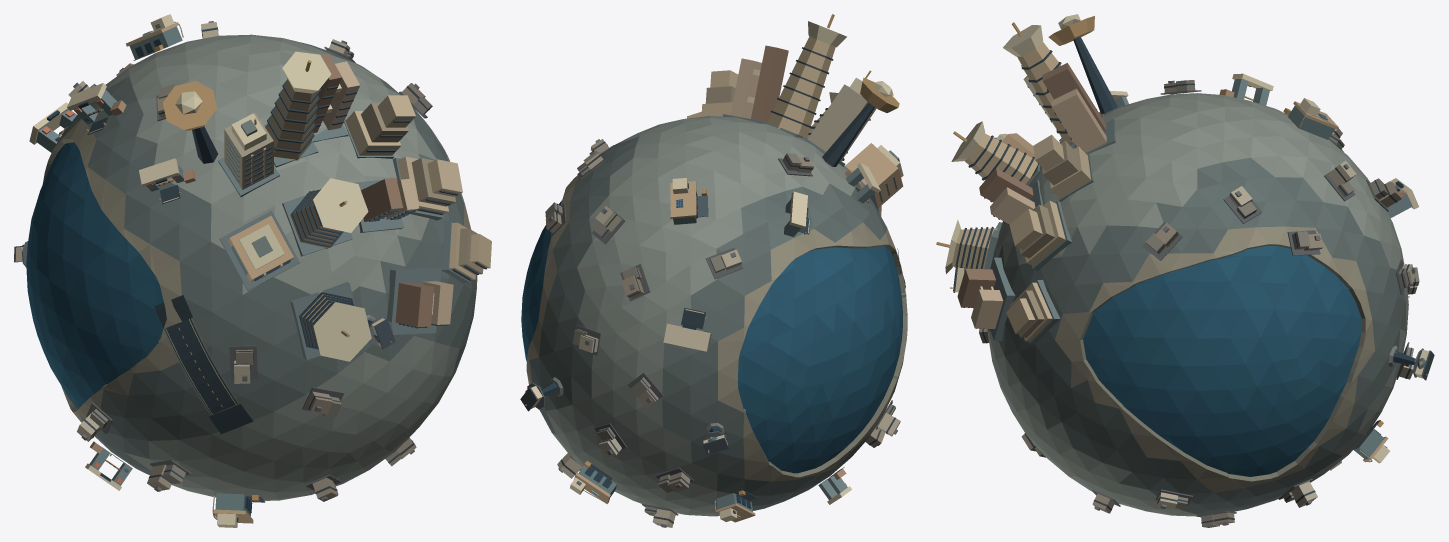
File: earth.glb
The picture shows the model from 3 angles, left to right: view 1: azimuth 30°, elevation 25°; view 2: azimuth 150°, elevation 25°; view 3: azimuth 270°, elevation 25°; orthographic projection. The views are drawn at different scales.
Visible parts, largest first — view 1: Terrain • modeled surfaces, Structures • modeled surfaces, Activity_city-car_road • modeled surfaces; view 2: Terrain • modeled surfaces, Structures • modeled surfaces; view 3: Terrain • modeled surfaces, Structures • modeled surfaces.
Part boxes in pixels (x1,y1,x2,y2): Terrain • modeled surfaces: (26,34,477,500); Structures • modeled surfaces: (14,14,491,527); Activity_city-car_road • modeled surfaces: (154,295,253,434); Terrain • modeled surfaces: (521,116,907,516); Structures • modeled surfaces: (520,14,903,527); Terrain • modeled surfaces: (987,93,1408,516); Structures • modeled surfaces: (936,14,1434,527).
Size of the model in its own units: 1.98 by 2.44 by 2.42.
